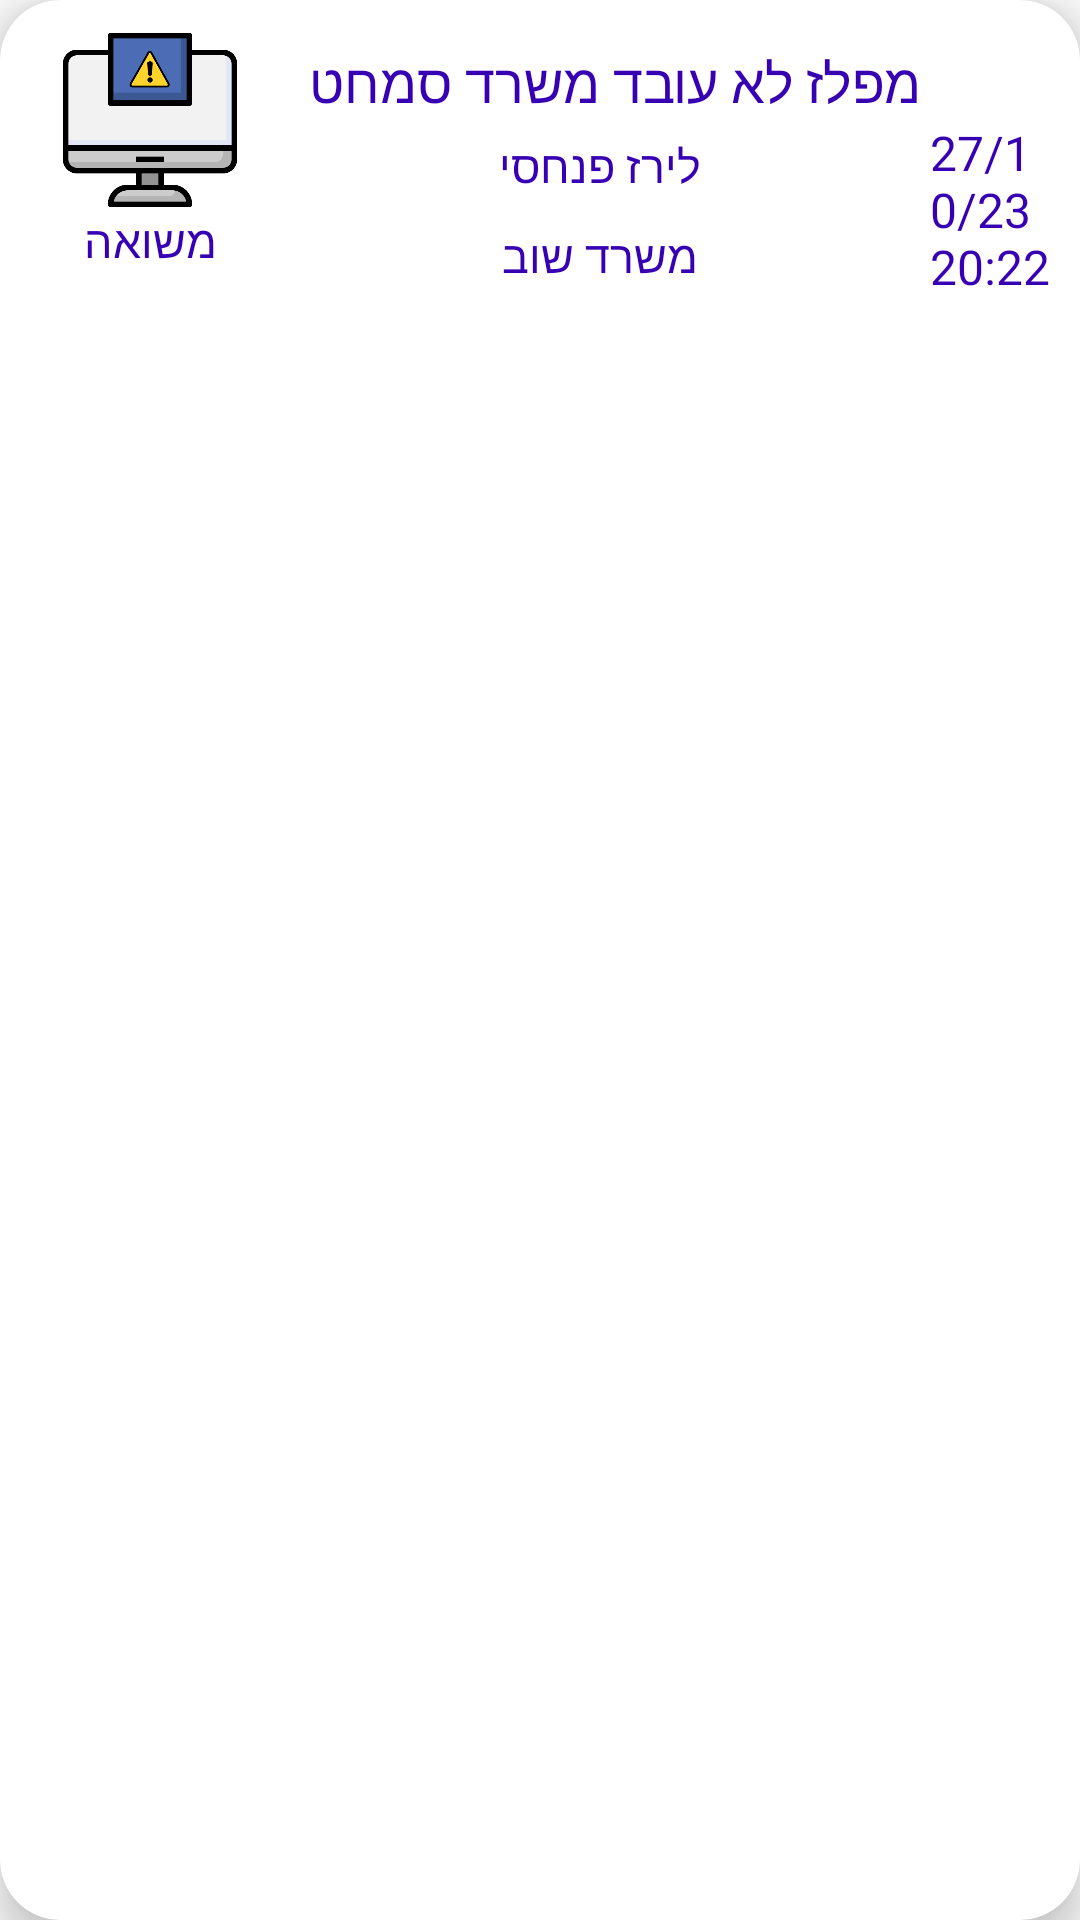

Where to tap for icons on this 1080px x 1920px app screen, as (x,y):
malfunction: (150,120)
